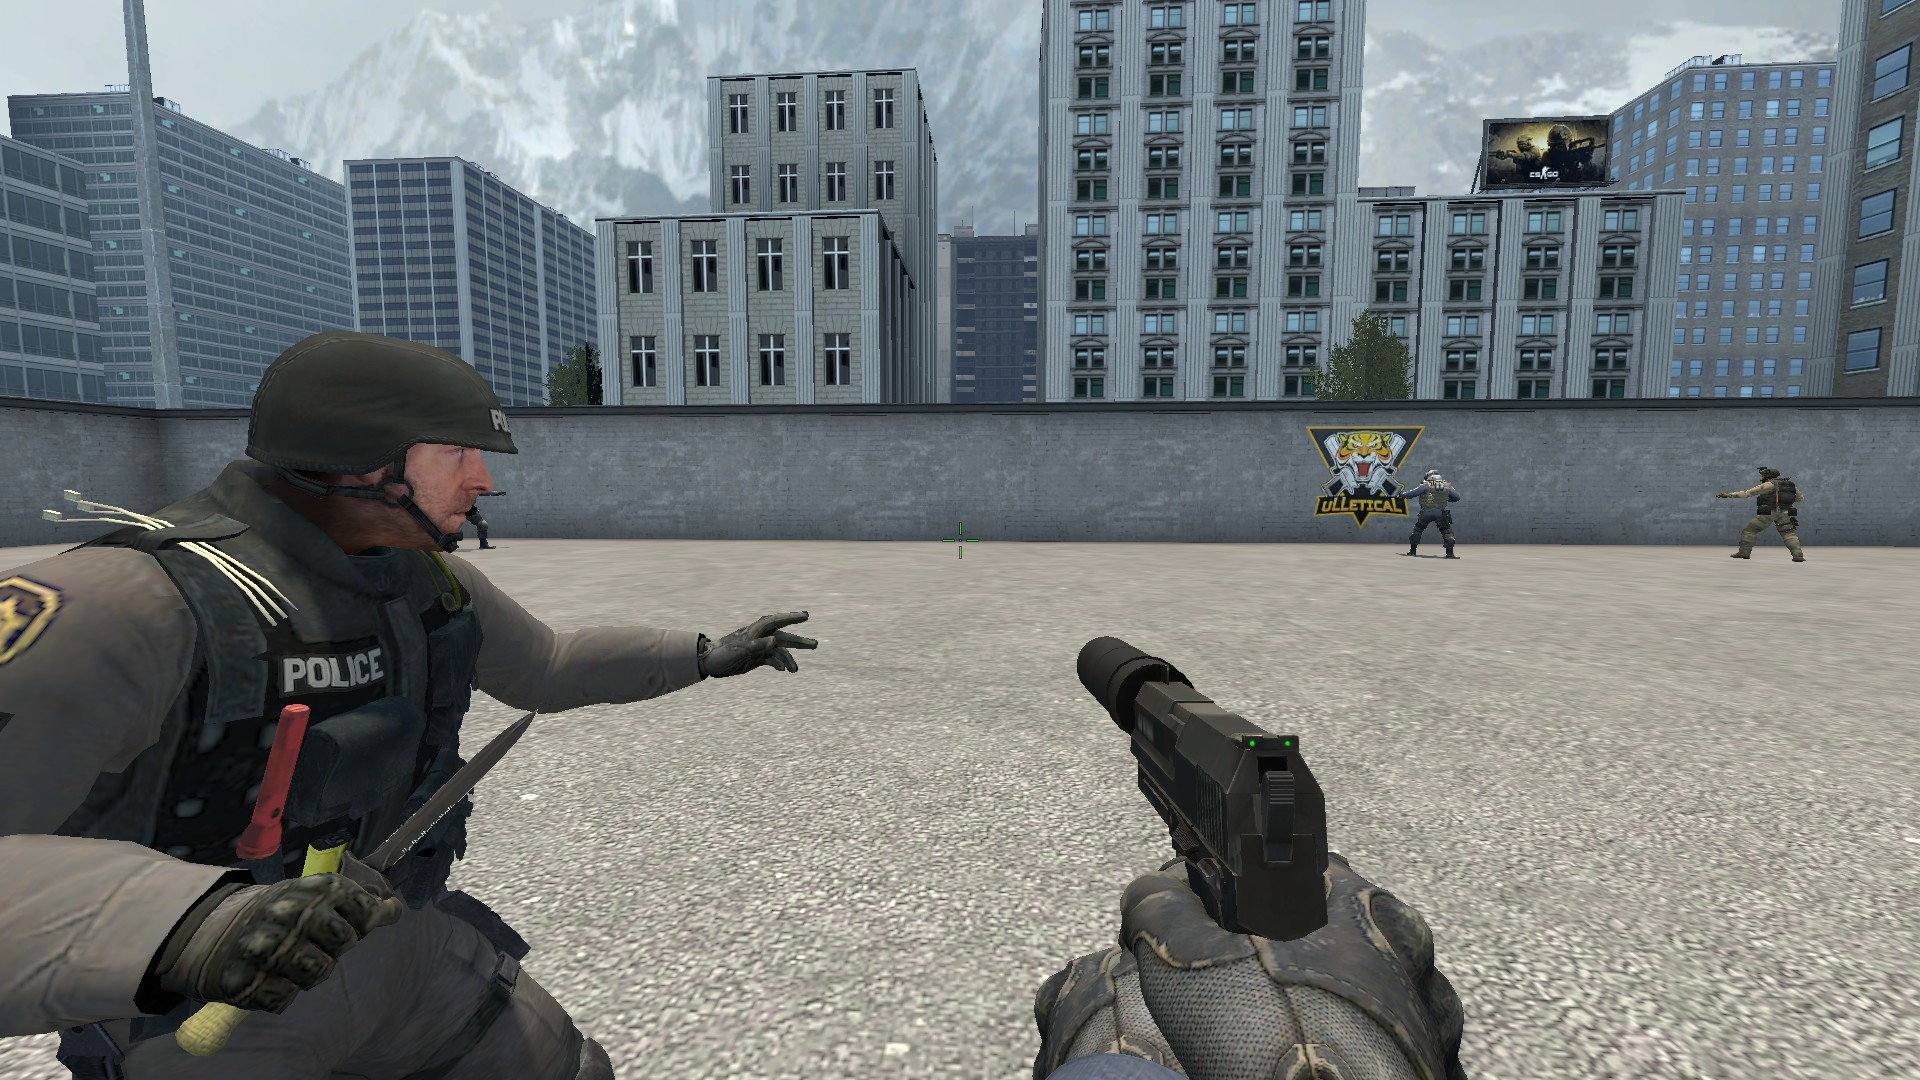ct: (1, 324, 820, 1079)
ct head: (243, 328, 522, 574)
